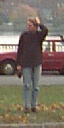person: (17, 14, 48, 104)
